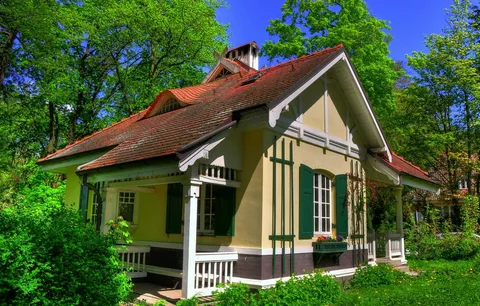private_hause: (87, 55, 406, 270)
